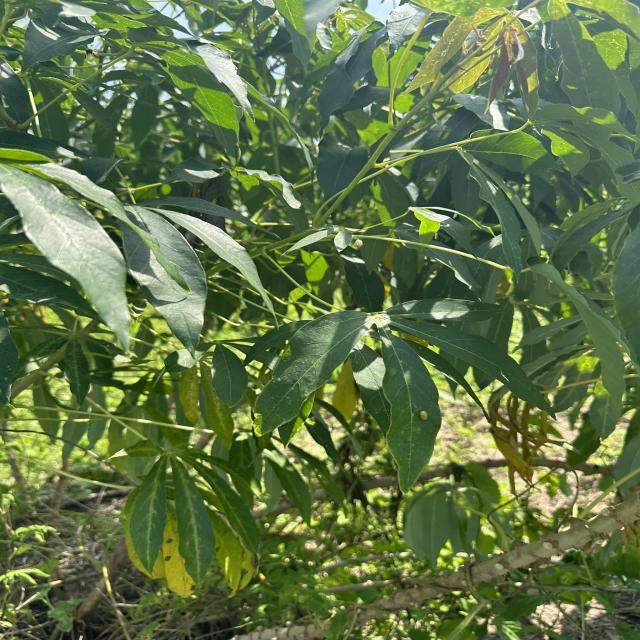Mosca: (418, 404, 434, 431)
